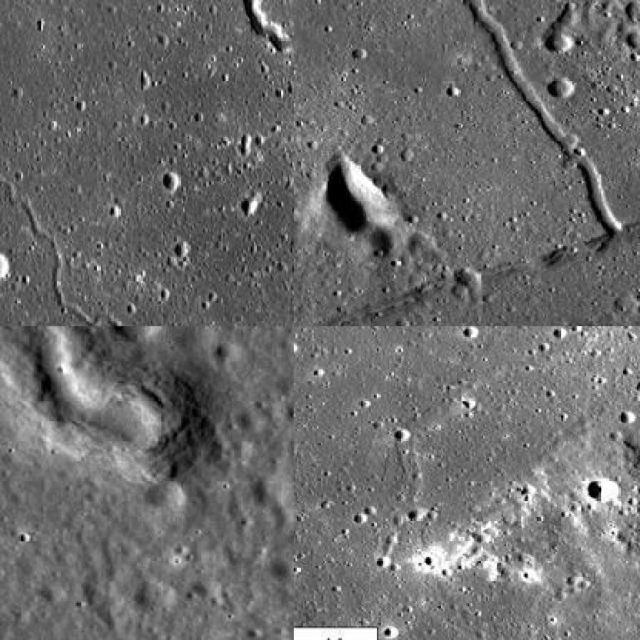rille: (0, 0, 292, 324), (293, 0, 629, 238), (394, 326, 638, 503), (0, 326, 169, 454), (177, 0, 292, 117)
